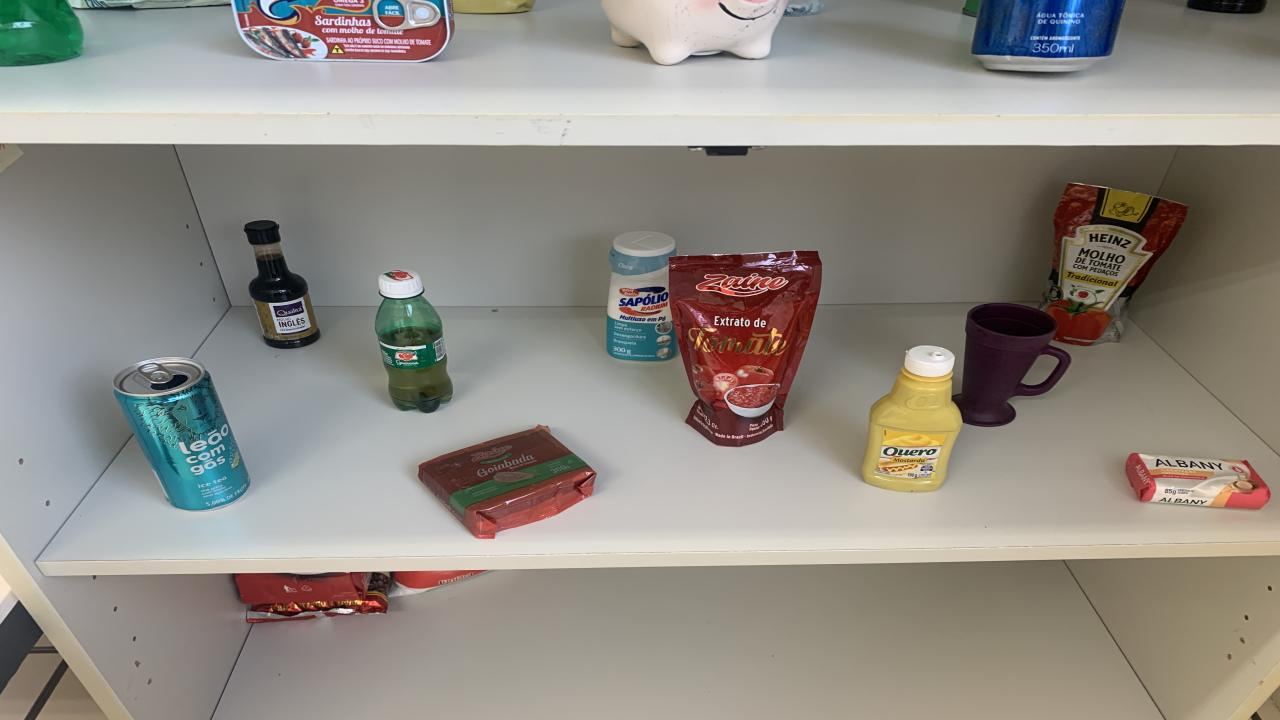Cleaner-Cleanup_Items: (608, 231, 678, 360)
English_Sauce-Pantry_Items: (245, 219, 320, 349), (1188, 0, 1268, 13)
Flakes-Snacks: (68, 0, 230, 9)
Guarana-Drinks: (375, 270, 452, 412)
Guava-Snacks: (418, 426, 598, 538)
Mustard-Pantry_Items: (862, 345, 962, 491), (452, 0, 535, 13)
Pig_Safe-Miscellaneous: (600, 0, 788, 66)
Soap-Cleanup_Items: (1125, 454, 1270, 510)
Tea-Drinks: (115, 356, 250, 510)
Tomato_Sauce-Pantry_Items: (668, 251, 822, 446), (1042, 184, 1188, 345)
Tonic-Drinks: (970, 0, 1125, 73)
Tuna_Can-Pantry_Items: (230, 0, 455, 62), (230, 0, 455, 62)
Water_Bottle-Drinks: (785, 0, 825, 17)
